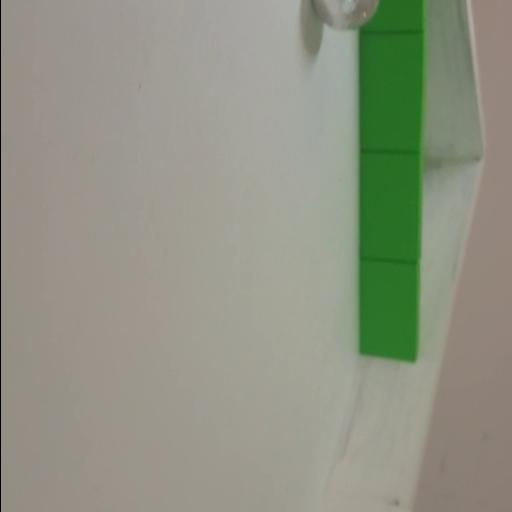alive: (314, 0, 380, 30)
